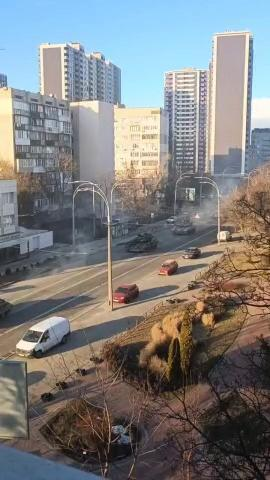car: (13, 315, 70, 355), (111, 283, 139, 304), (157, 260, 178, 276), (182, 247, 201, 259)
tank: (116, 233, 158, 253), (163, 222, 196, 236)
